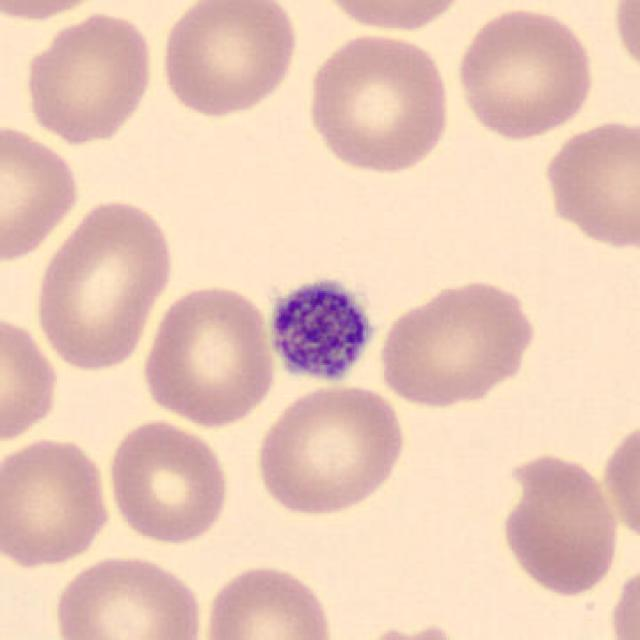Platelets: (263, 272, 379, 386)
RBC: (30, 194, 178, 374), (301, 28, 454, 178), (375, 273, 541, 409), (251, 379, 409, 520), (139, 280, 279, 430), (452, 3, 599, 143), (496, 450, 624, 600), (20, 9, 158, 146), (156, 0, 302, 120), (103, 416, 233, 547), (0, 432, 116, 571), (538, 114, 640, 253), (50, 550, 206, 640), (0, 118, 84, 265), (197, 560, 339, 640), (0, 308, 62, 449), (597, 412, 640, 546), (311, 0, 474, 35), (339, 620, 478, 640), (606, 559, 640, 640), (608, 0, 640, 85), (0, 0, 114, 23)
